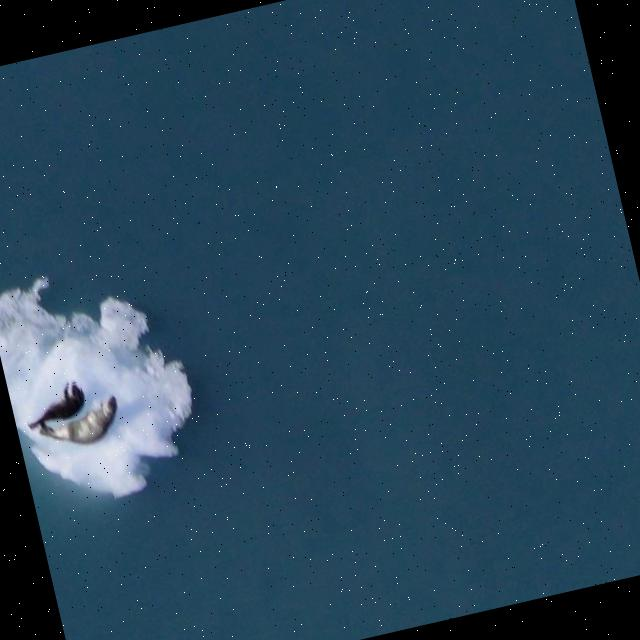seal: (35, 396, 124, 456), (27, 381, 89, 442)
